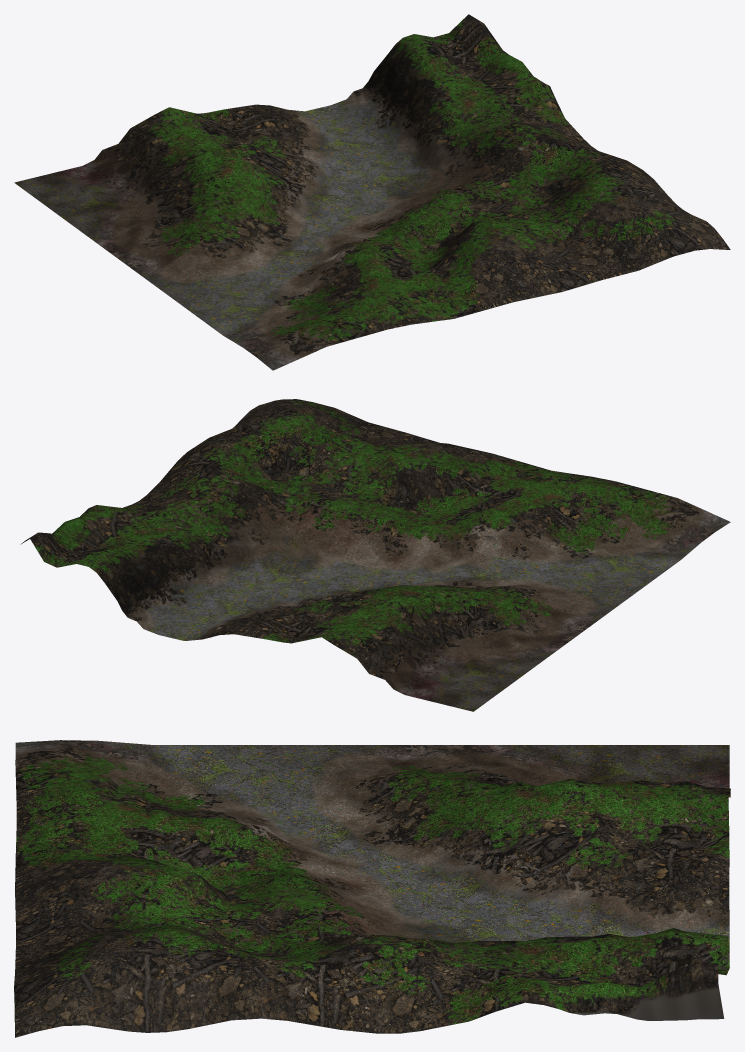
File: terrain4.glb
The picture shows the model from 3 angles, top to bottom: view 1: azimuth 30°, elevation 25°; view 2: azimuth 150°, elevation 25°; view 3: azimuth 270°, elevation 25°; orthographic projection. The views are drawn at different scales.
Parts seen in each view (by area): view 1: Terrain.004; view 2: Terrain.004; view 3: Terrain.004.
Part boxes in pixels (x1,y1,x2,y2): Terrain.004: (14, 14, 730, 370); Terrain.004: (20, 399, 730, 711); Terrain.004: (14, 740, 730, 1037).
Size of the model in its own units: 44.88 by 5.71 by 43.47.
Materials: 1 (1 with a texture image).
